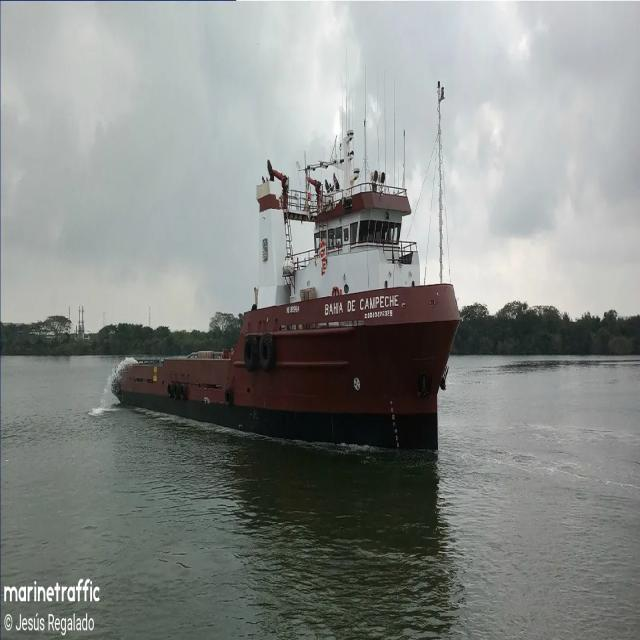Offshore: (118, 131, 459, 450)
